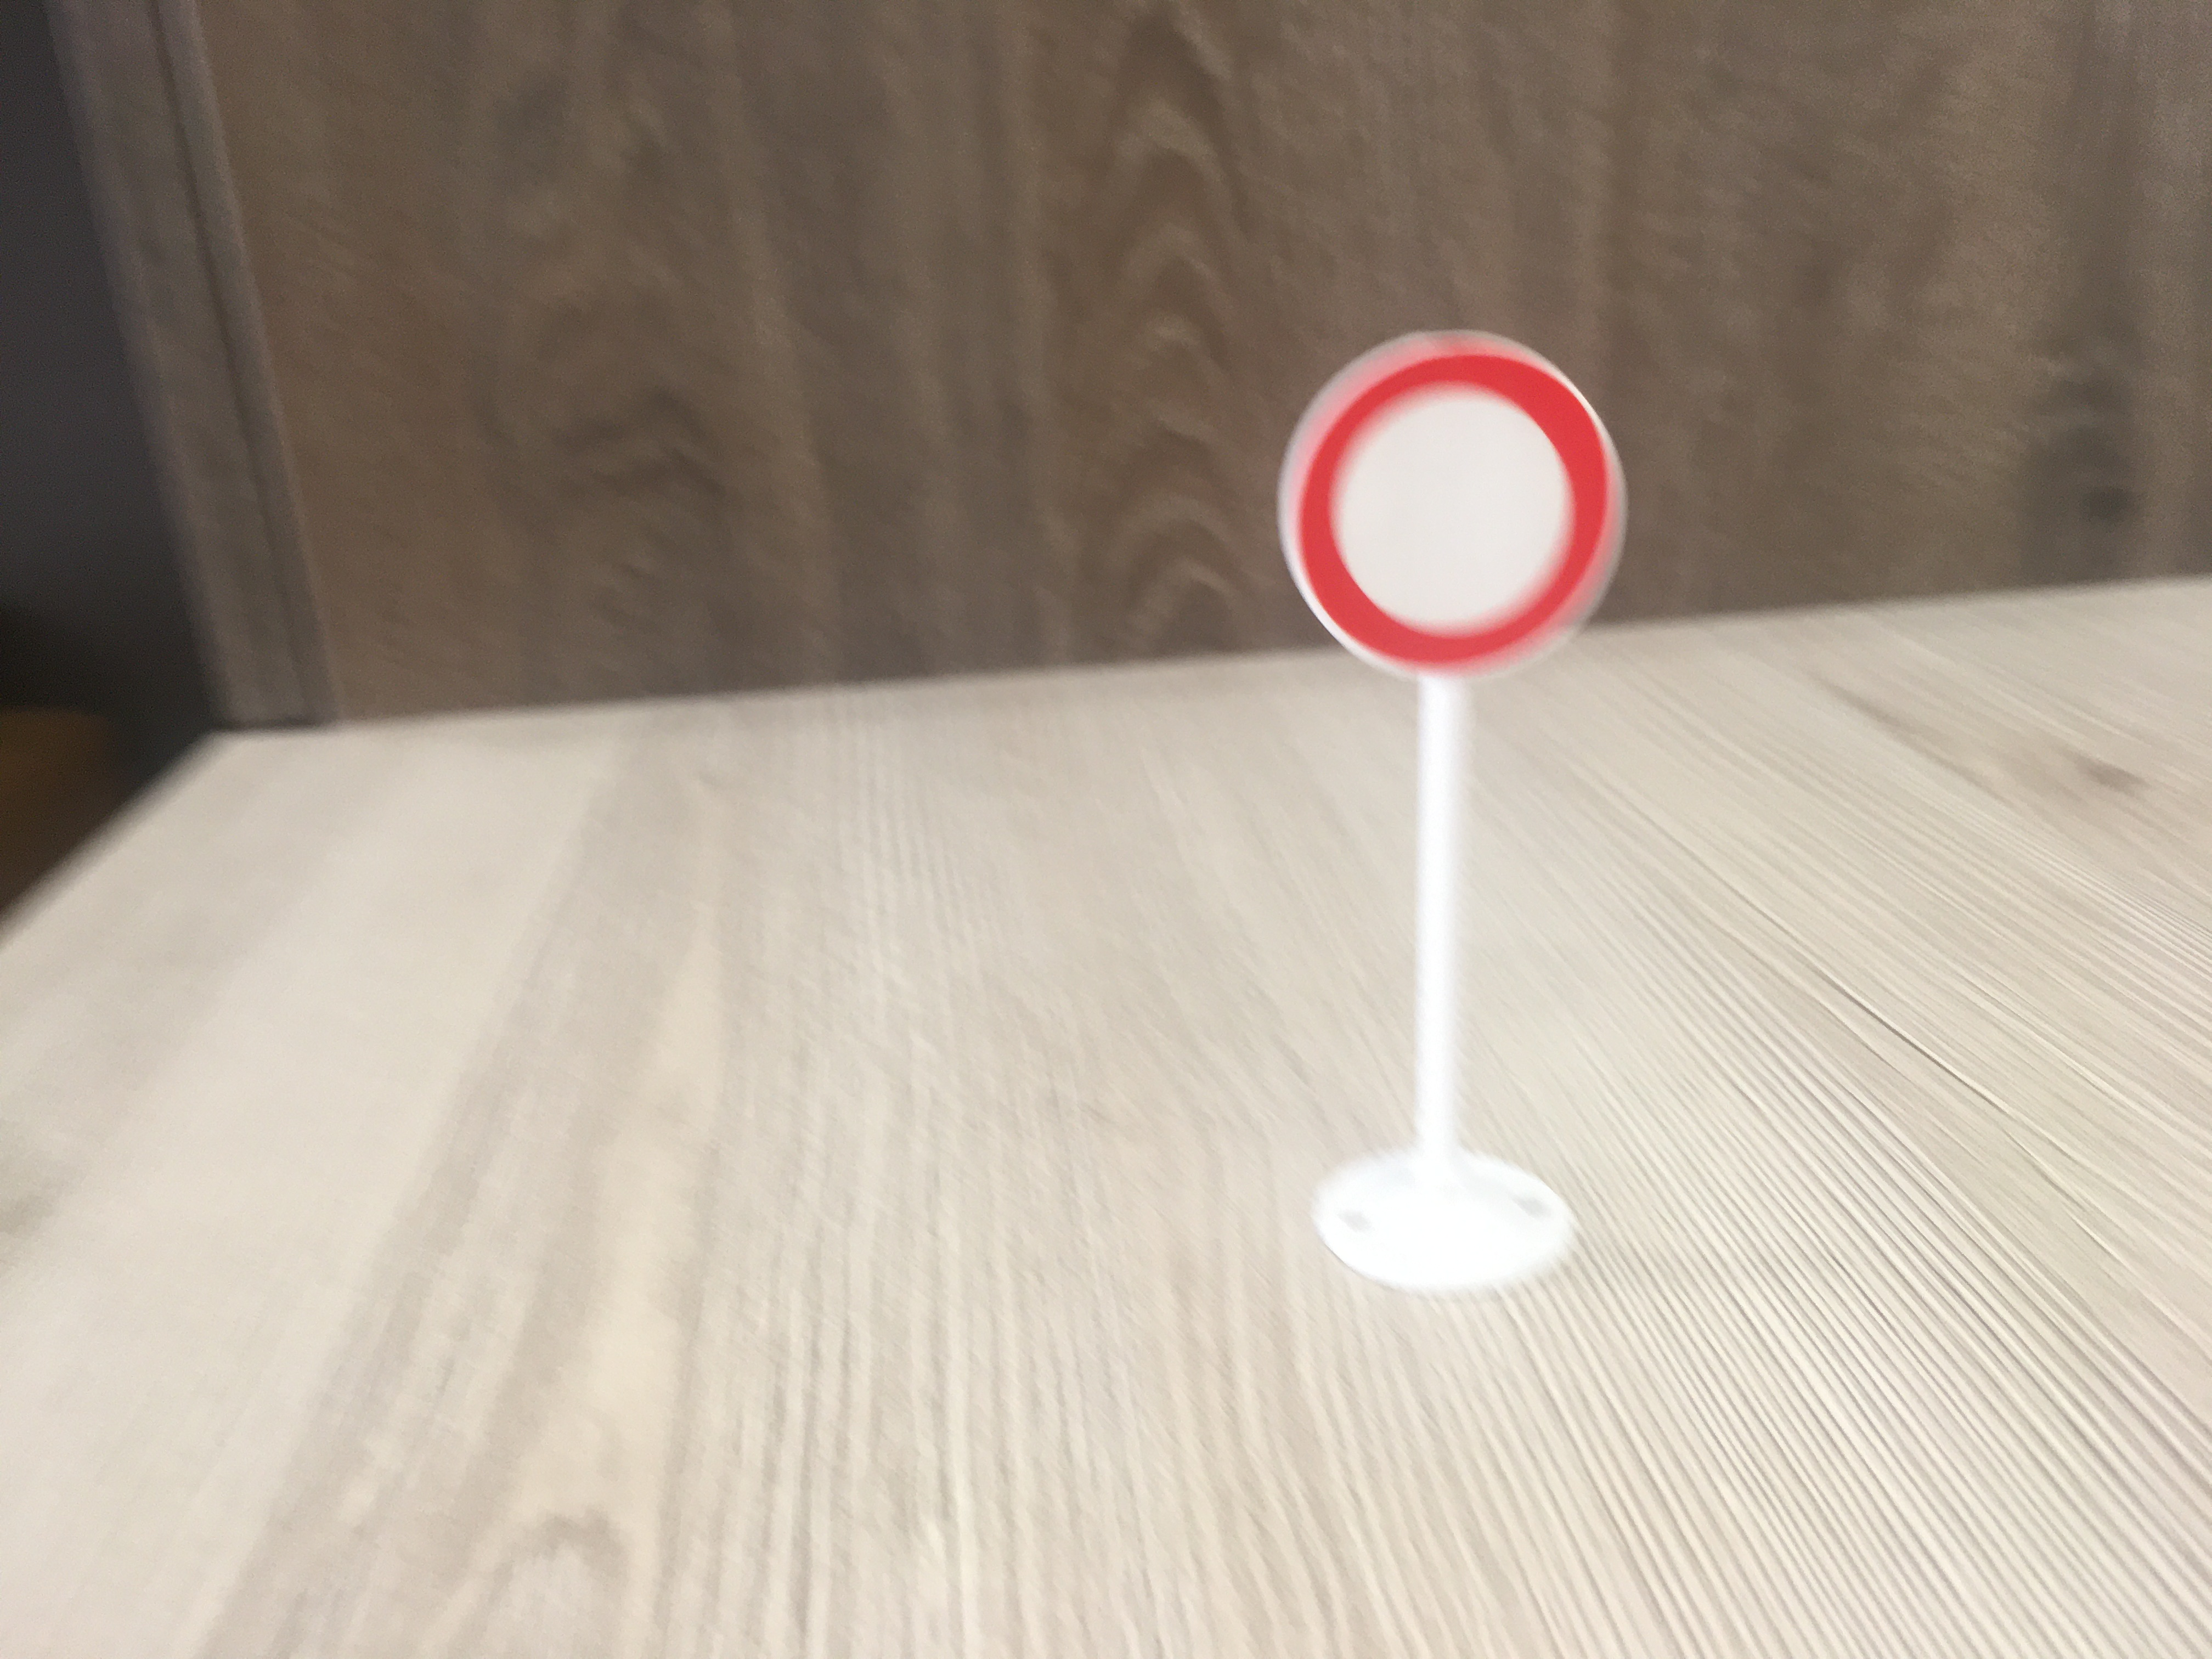noDrive: (1280, 345, 1622, 683)
